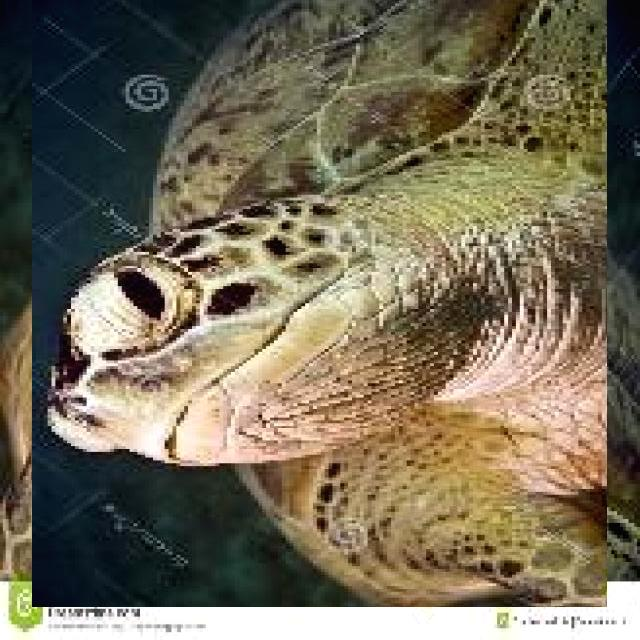Sea turtle: (16, 0, 623, 591)
